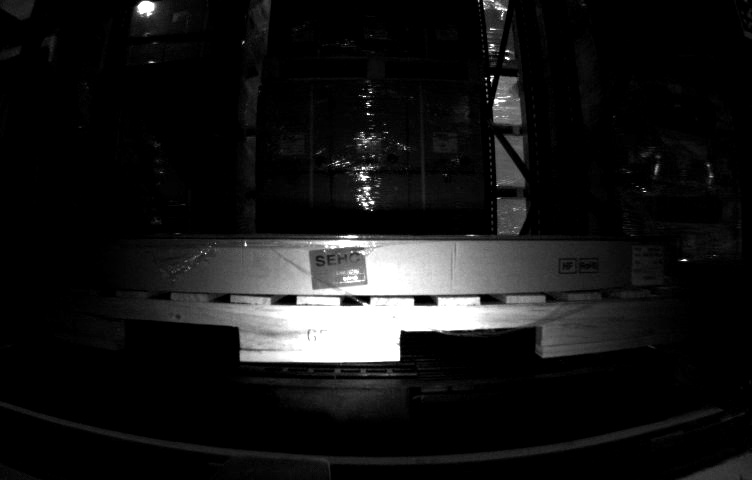True Barcode: (629, 243, 667, 286)
